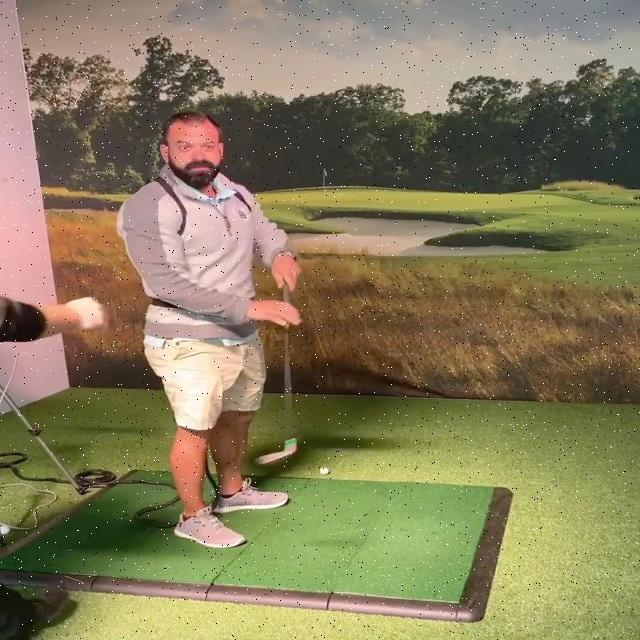ClubHandle: (257, 282, 298, 465)
ClubHead: (258, 438, 297, 465)
GolfBall: (320, 467, 329, 475)
